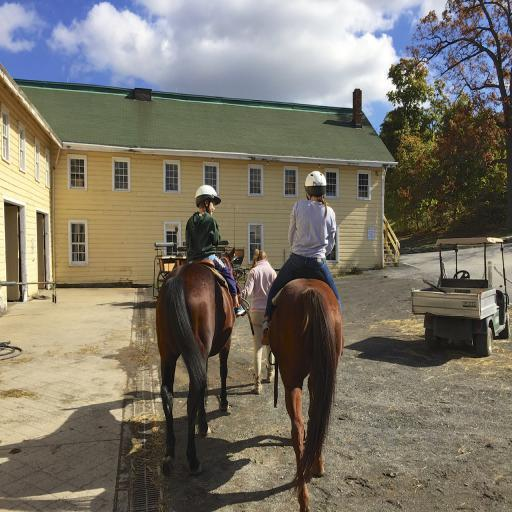horse: (266, 275, 346, 512), (158, 246, 236, 478)
